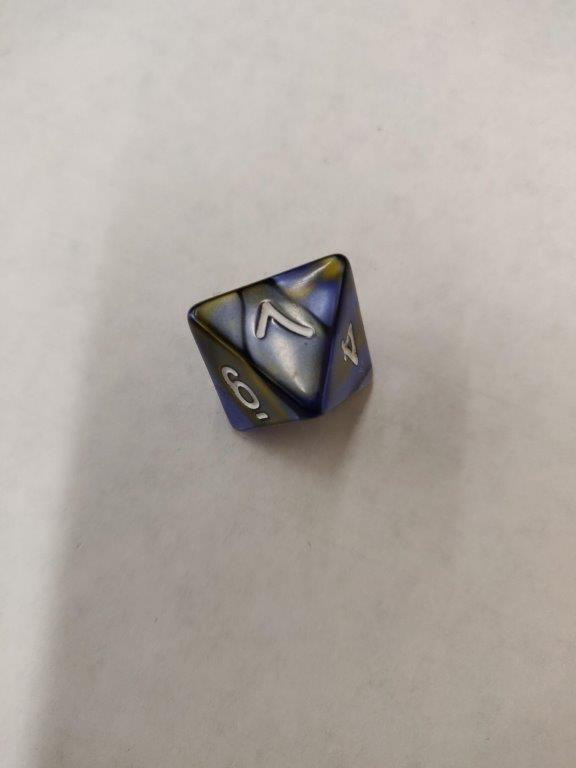d8-7: (187, 256, 375, 429)
